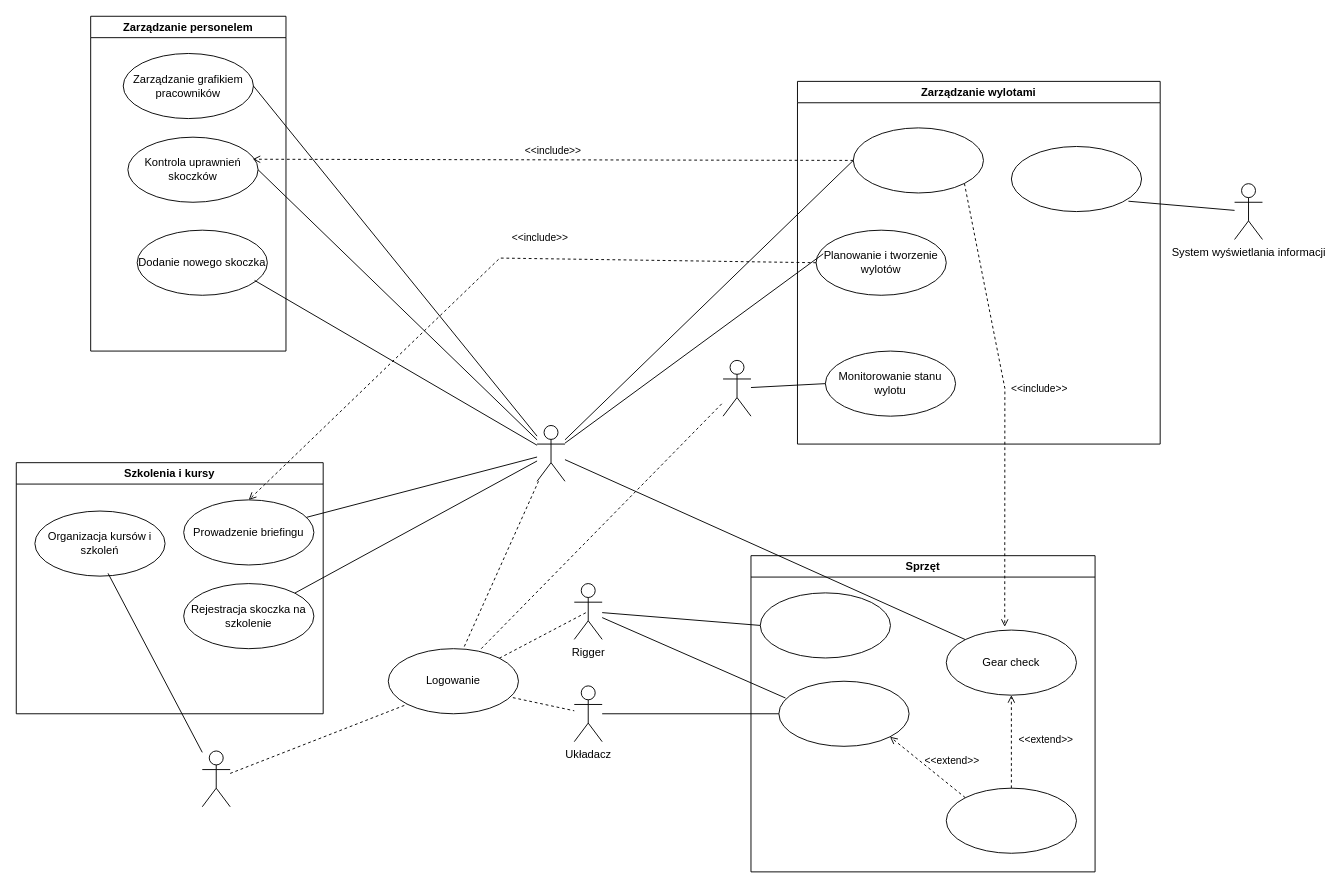
Some shapes in this 1341 by 888 pixel diagram are drawn without their labels. The centre of each missing label's shape, as x and y in pixels:
Kierownik skoków: point (550, 453)
Kontrola stanu spadochronu: point (824, 625)
Pilot: point (736, 387)
Przypisywanie skoczków do wylotu: point (917, 160)
Skoczek: point (215, 778)
Układanie spadochronu: point (843, 713)
Wyświetlanie wylotów w układalni: point (1076, 179)
Zgłaszanie usterki spadochronu: point (1010, 820)
